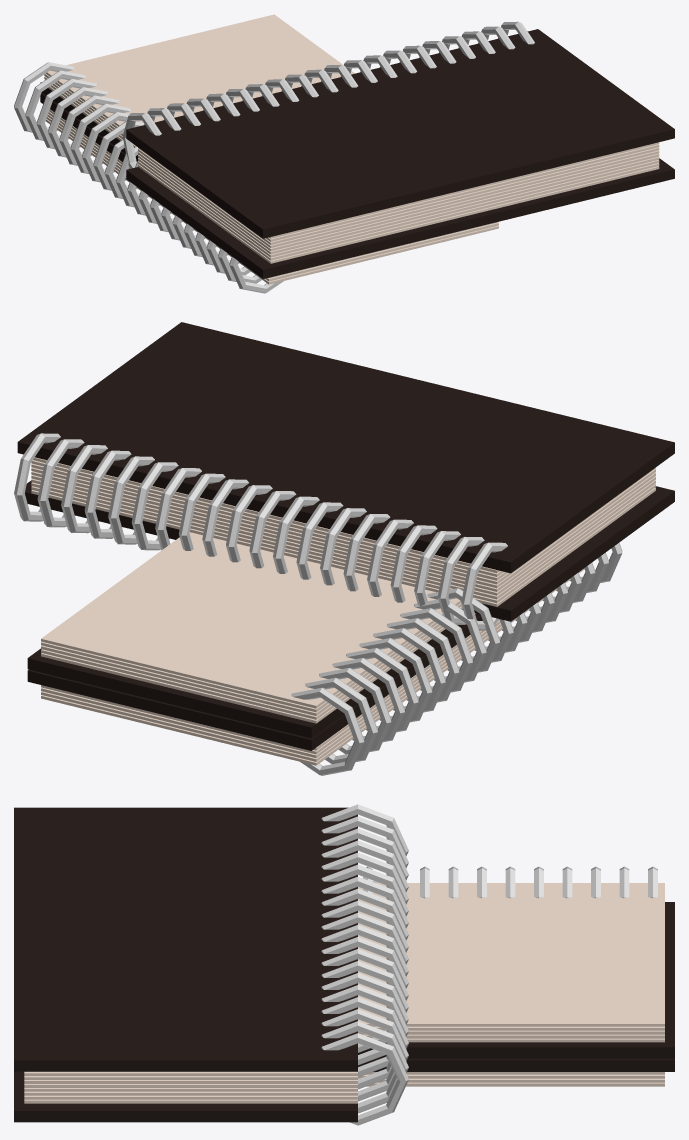
File: libreta.fbx
3 renders of one model, top to bottom at view 1: azimuth 30°, elevation 25°; view 2: azimuth 150°, elevation 25°; view 3: azimuth 270°, elevation 25°, orthographic. The views are drawn at different scales.
Parts seen in each view (by area): view 1: carton arriba.c, hojas abajo.a, anillos.a, carton abajo.c, hojas abajo.c, anillos.c, hojas arriba.c, hojas arriba.a, carton arriba.a; view 2: carton arriba.c, hojas abajo.a, anillos.c, anillos.a, hojas abajo.c, hojas arriba.c, hojas arriba.a, carton abajo.a, carton abajo.c, carton arriba.a; view 3: carton arriba.c, hojas abajo.a, anillos.c, carton abajo.c, hojas abajo.c, carton abajo.a, hojas arriba.c, hojas arriba.a, carton arriba.a, anillos.a.
Boxes of the visible parts, x1,y1,x2,y2 form: carton arriba.c: (126,29,674,238); hojas abajo.a: (44,14,354,147); anillos.a: (14,62,283,293); carton abajo.c: (126,158,674,278); hojas abajo.c: (138,151,659,263); anillos.c: (122,21,534,168); hojas arriba.c: (138,142,659,247); hojas arriba.a: (46,109,498,284); carton arriba.a: (40,92,129,167); carton arriba.c: (17,322,674,573); hojas abajo.a: (41,532,462,723); anillos.c: (14,433,507,630); anillos.a: (291,542,622,775); hojas abajo.c: (31,472,655,606); hojas arriba.c: (31,457,655,588); hojas arriba.a: (41,568,584,765); carton abajo.a: (27,613,480,738); carton abajo.c: (25,480,674,621); carton arriba.a: (27,615,482,750); carton arriba.c: (14,807,357,1071); hojas abajo.a: (358,883,664,1042); anillos.c: (321,804,408,1125); carton abajo.c: (14,1071,357,1122); hojas abajo.c: (24,1084,357,1103); carton abajo.a: (358,902,674,1058); hojas arriba.c: (24,1071,357,1083); hojas arriba.a: (358,1072,664,1086); carton arriba.a: (358,1058,674,1071); anillos.a: (363,866,657,898).
Bounding box in the file's own units: 1254 × 332 × 1387.
